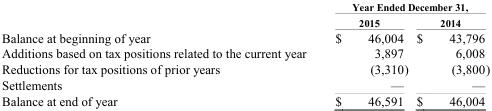table: (1, 0, 489, 107)
table column: (1, 0, 320, 107), (320, 0, 411, 107), (411, 0, 489, 107)
table column header: (1, 0, 489, 29)
table row: (1, 29, 489, 45), (1, 60, 489, 76), (1, 76, 489, 92), (1, 14, 489, 29), (1, 45, 489, 60), (1, 92, 489, 107), (1, 0, 489, 14)
table spanning cell: (320, 0, 489, 14)
